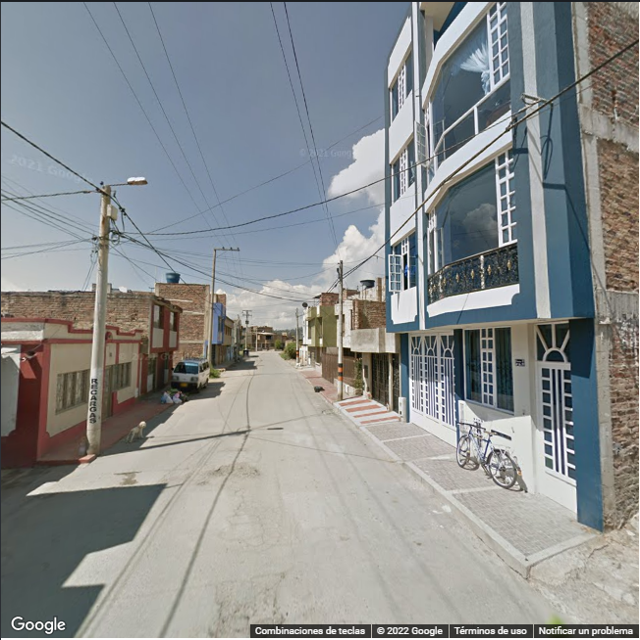D10: (103, 571, 283, 600)
D20: (218, 507, 271, 548)
D40: (209, 602, 289, 635)
